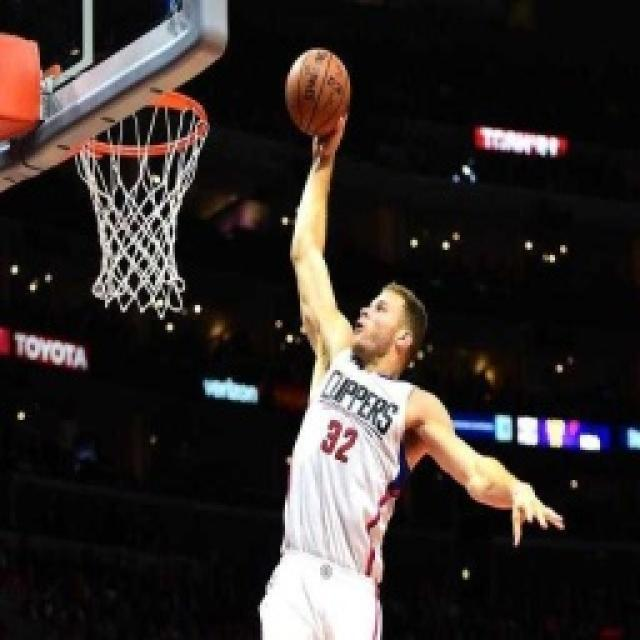rim: (282, 42, 354, 136)
